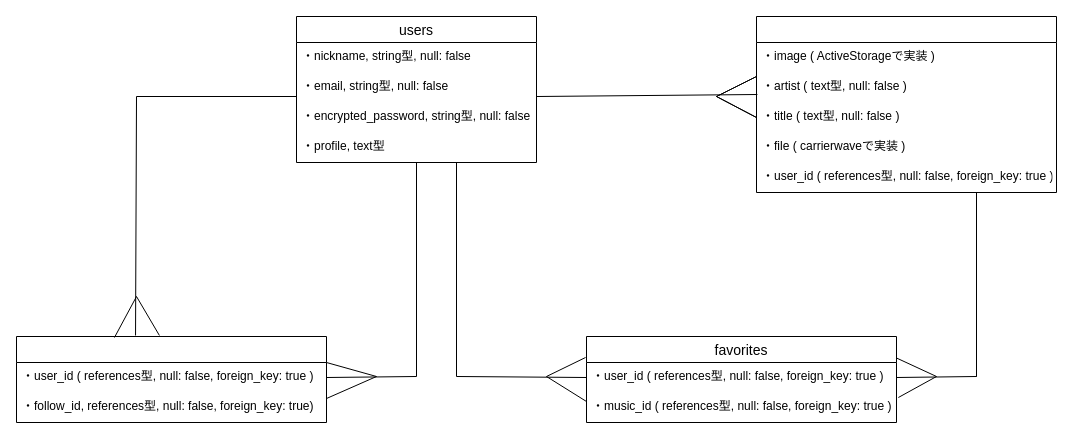
The diagram is 1073 pixels wide and 439 high, and some of its shapes have lost their labels. Here are the shapes that lost their labels. From the top down, the box of each, then its label:
(756, 16, 1056, 192): musics
(16, 336, 326, 422): relationships
